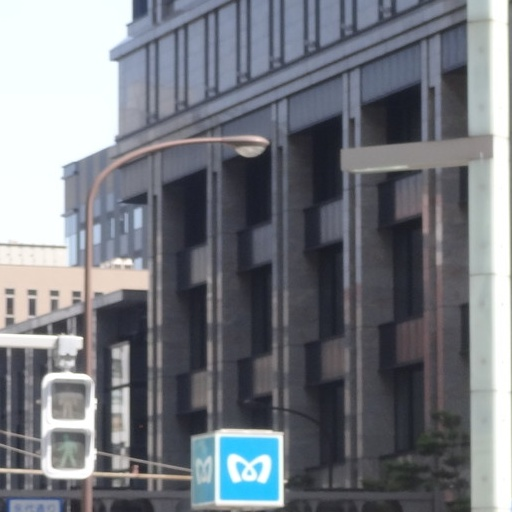Pedestrian_Signal_Blue: (35, 369, 99, 488)
